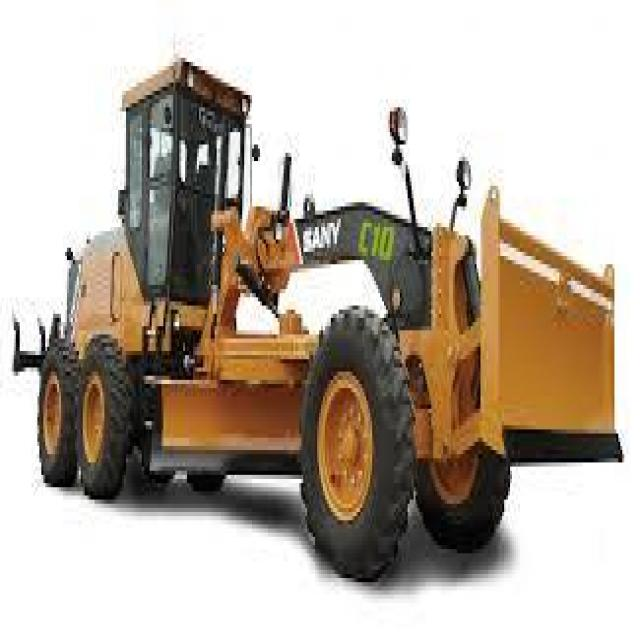Grader: (18, 37, 620, 582)
